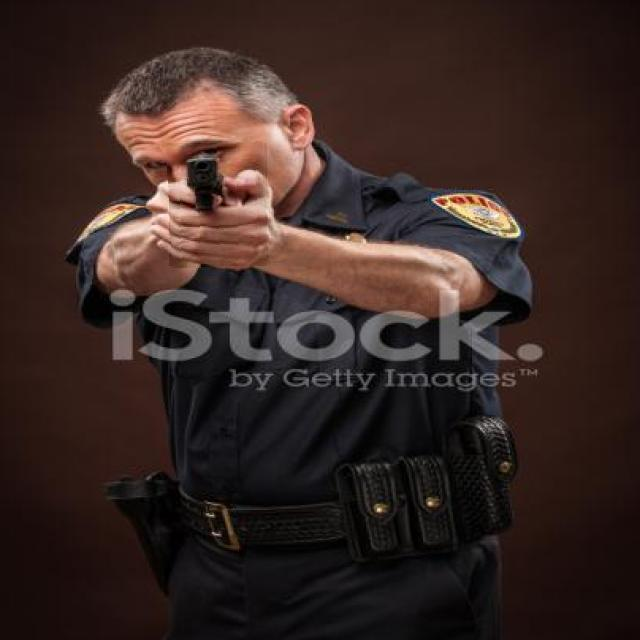handgun: (168, 142, 269, 267)
